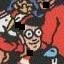waldo: (11, 9, 44, 52)
